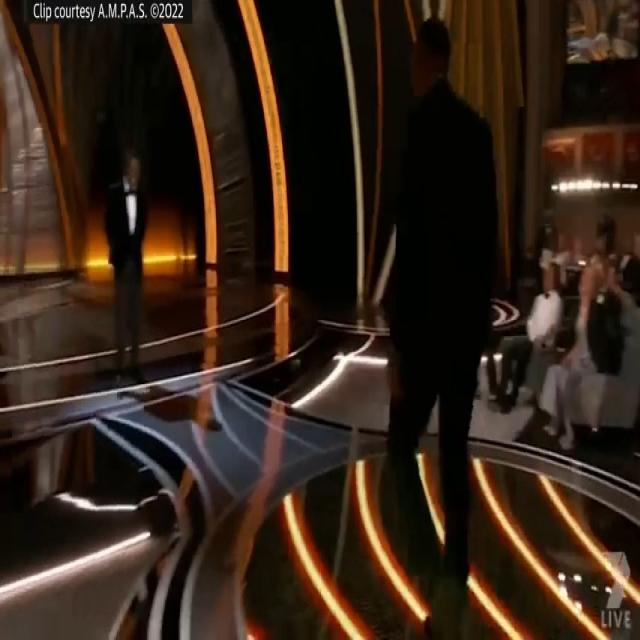non-fight: (363, 14, 512, 606), (84, 141, 190, 392)
